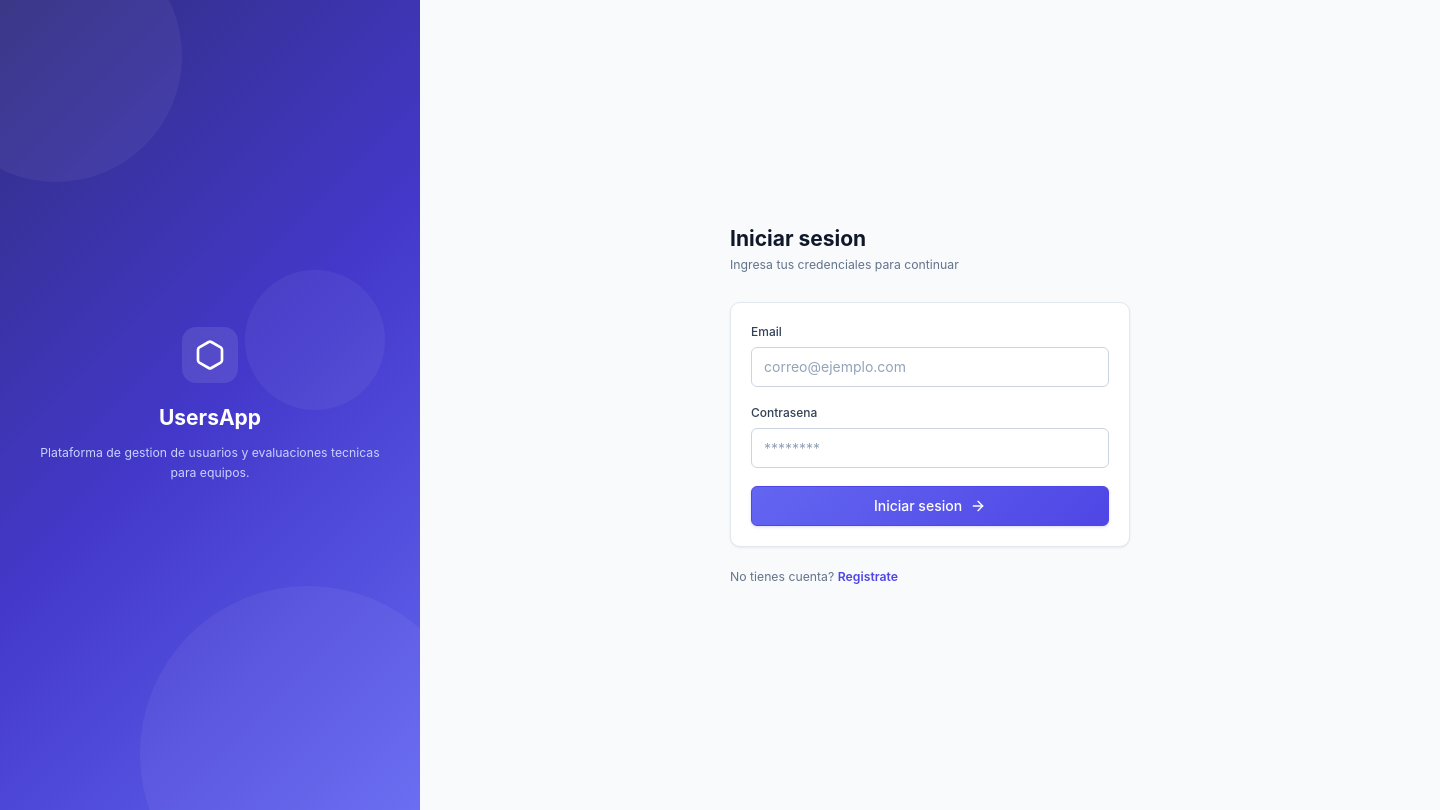
Test: Login Page › debe mostrar error si email está vacío al enviar
The image size is (1440, 810).
Step 1. Click the button "Iniciar sesion" → [930, 506], box [751,486,1109,526]
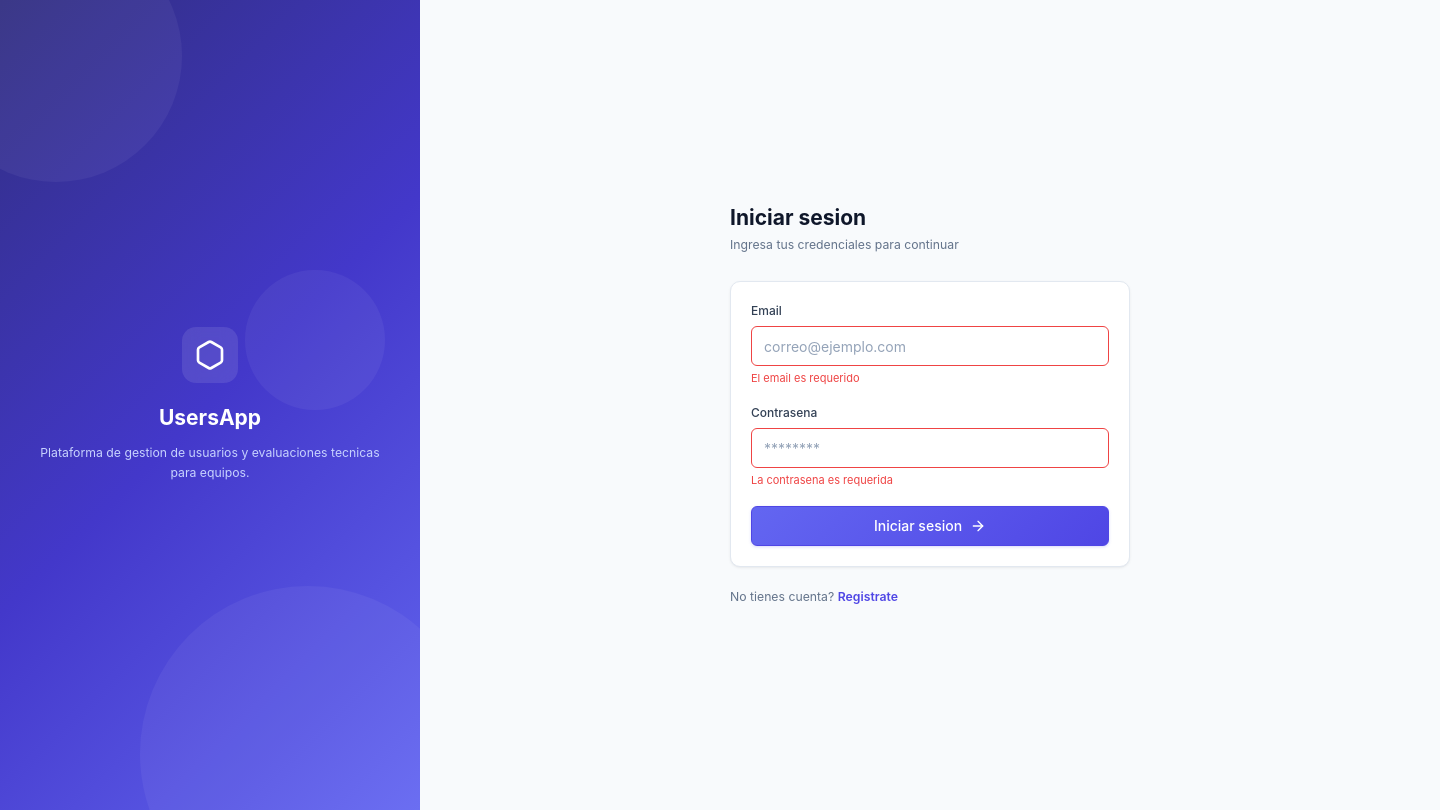
Check: the text "El email es requerido" is shown, box [751,371,860,385]
